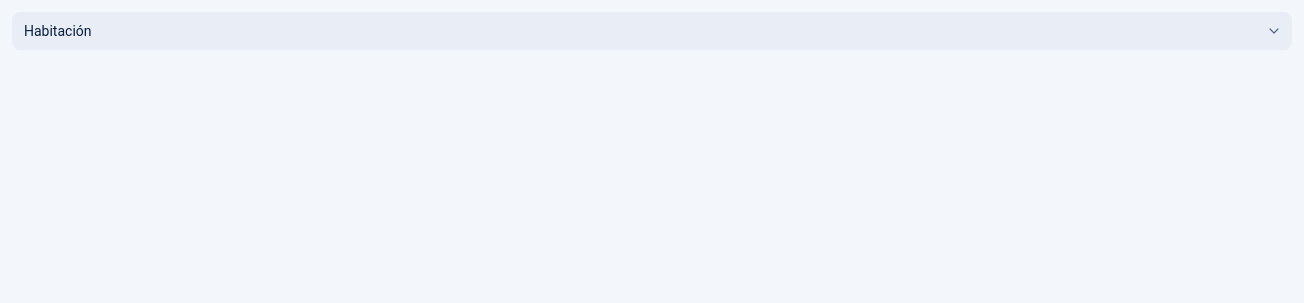
Test case: passing the mouse over it does not open it
Hover over the element named "Tipo".
mouse_move(652, 31)  # box [12, 12, 1292, 50]
Click the dropdown named "Tipo".
click(58, 31)  # box [12, 12, 1292, 50]
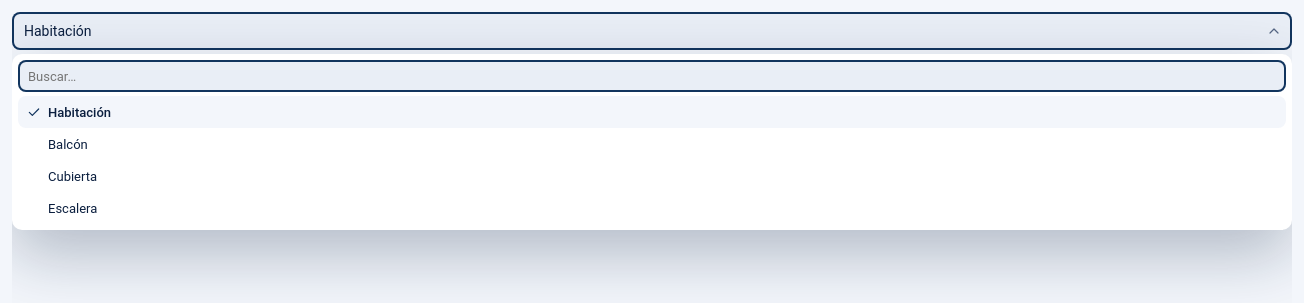
Expected: the list is shown, [18, 96, 1286, 224]
Click the dropdown named "Tipo".
click(58, 31)  # box [12, 12, 1292, 50]
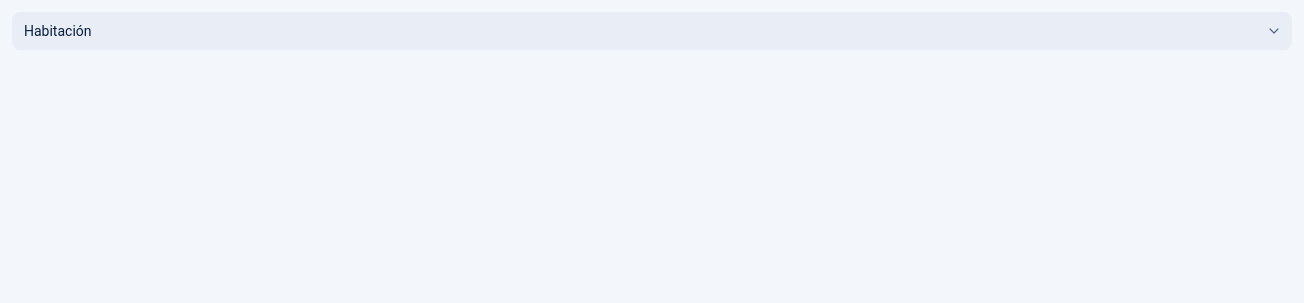
Expected: the list is gone
